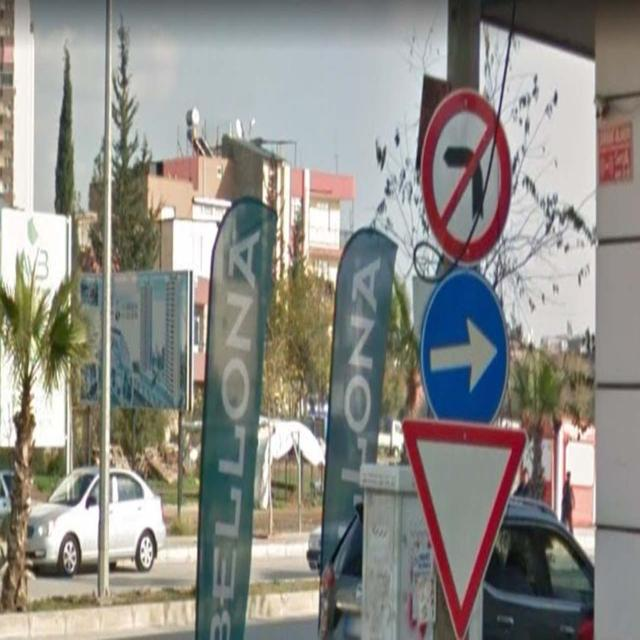sag: (420, 268, 510, 432)
soladonulmez: (420, 88, 512, 266)
